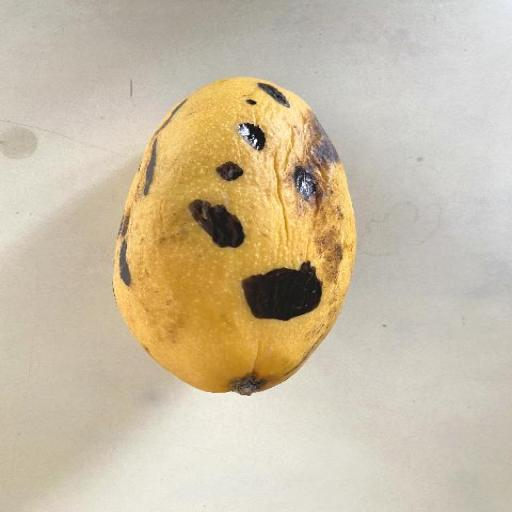mango-overripe: (98, 64, 368, 420)
